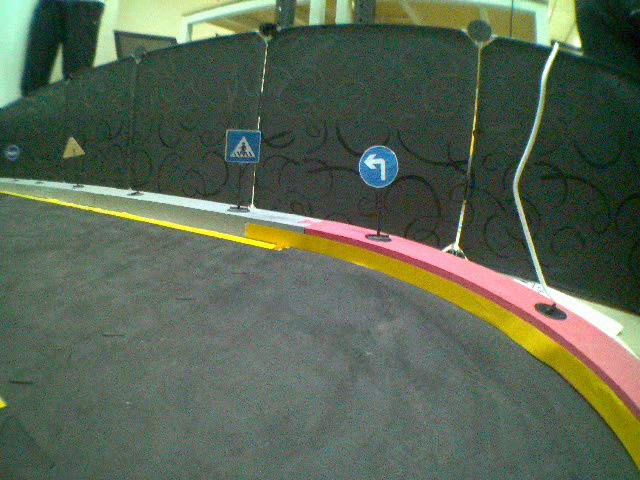crossing: (225, 128, 262, 163)
turn: (355, 144, 399, 191)
